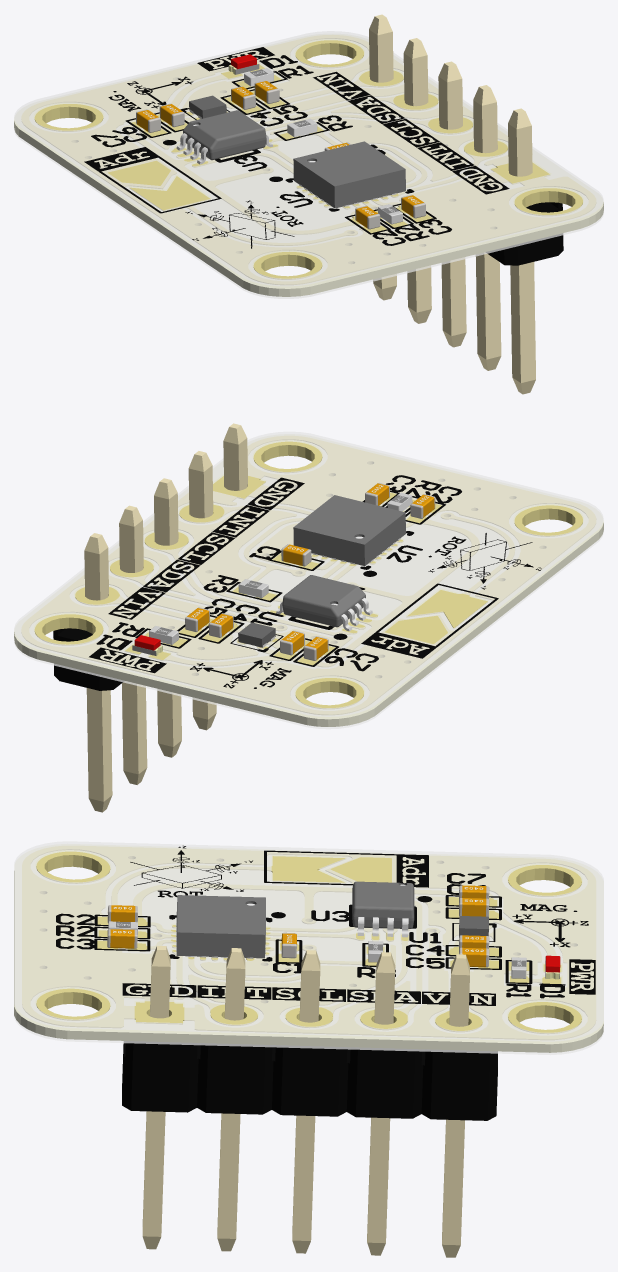
The picture shows the model from 3 angles, top to bottom: view 1: azimuth 30°, elevation 25°; view 2: azimuth 150°, elevation 25°; view 3: azimuth 270°, elevation 25°; orthographic projection. The views are drawn at different scales.
Parts seen in each view (by area): view 1: Solder_Top, GND, Core, ComponentBody42, Top, ComponentBody16, ComponentBody7, +1V8, B1, ComponentBody41, Pad14, Solder_Bottom (+8 smaller); view 2: Solder_Top, GND, Core, ComponentBody42, Top, ComponentBody16, +1V8, ComponentBody7, B1, Pad14, Solder_Bottom, ComponentBody41 (+8 smaller); view 3: Solder_Top, GND, Core, ComponentBody41, ComponentBody42, Top, ComponentBody16, +1V8, ComponentBody7, B1, Pad14, Solder_Bottom (+7 smaller).
Part boxes in pixels (bbox=[...]): Solder_Top: bbox=[14, 31, 603, 286]; GND: bbox=[21, 35, 596, 284]; Core: bbox=[14, 34, 603, 296]; ComponentBody42: bbox=[369, 14, 535, 394]; Top: bbox=[84, 47, 509, 248]; ComponentBody16: bbox=[293, 141, 405, 208]; ComponentBody7: bbox=[183, 110, 266, 160]; +1V8: bbox=[122, 72, 426, 234]; B1: bbox=[112, 162, 210, 211]; ComponentBody41: bbox=[486, 202, 563, 265]; Pad14: bbox=[360, 70, 549, 184]; Solder_Bottom: bbox=[14, 130, 603, 298]; Solder_Top: bbox=[14, 431, 603, 716]; GND: bbox=[21, 436, 596, 714]; Core: bbox=[14, 434, 603, 726]; ComponentBody42: bbox=[84, 423, 247, 812]; Top: bbox=[89, 475, 541, 688]; ComponentBody16: bbox=[293, 495, 405, 565]; +1V8: bbox=[156, 506, 479, 666]; ComponentBody7: bbox=[282, 575, 365, 627]; B1: bbox=[386, 590, 487, 643]; Pad14: bbox=[75, 476, 265, 605]; Solder_Bottom: bbox=[14, 531, 603, 729]; ComponentBody41: bbox=[53, 628, 123, 690]; Solder_Top: bbox=[14, 841, 603, 1041]; GND: bbox=[22, 846, 595, 1039]; Core: bbox=[14, 844, 603, 1052]; ComponentBody41: bbox=[122, 1041, 497, 1120]; ComponentBody42: bbox=[142, 946, 469, 1257]; Top: bbox=[56, 845, 595, 1005]; ComponentBody16: bbox=[176, 895, 265, 958]; +1V8: bbox=[104, 883, 556, 981]; ComponentBody7: bbox=[352, 881, 414, 928]; B1: bbox=[272, 856, 390, 883]; Pad14: bbox=[136, 1002, 482, 1031]; Solder_Bottom: bbox=[14, 1016, 603, 1055].
Size of the model in its own units: 1.5 by 1.15 by 2.
